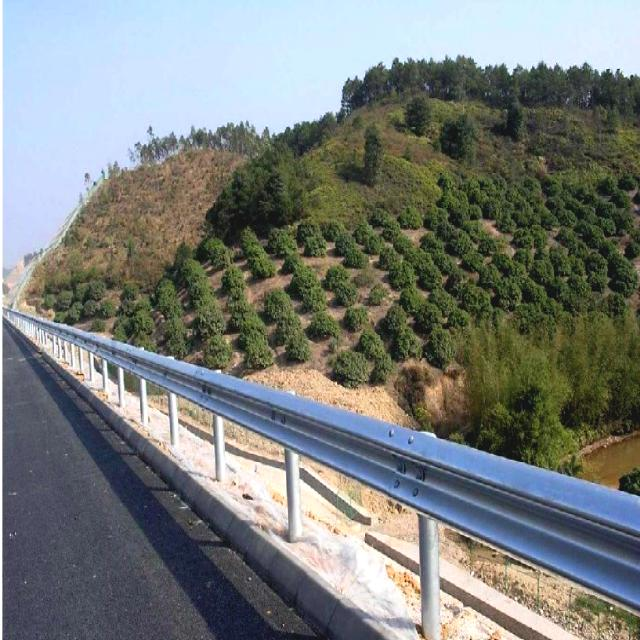Guard rail: (9, 312, 640, 609)
